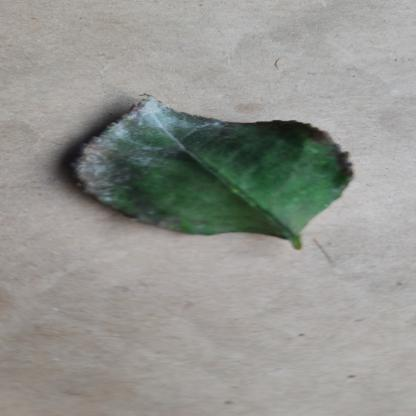powdery-mildew: (56, 91, 362, 240)
